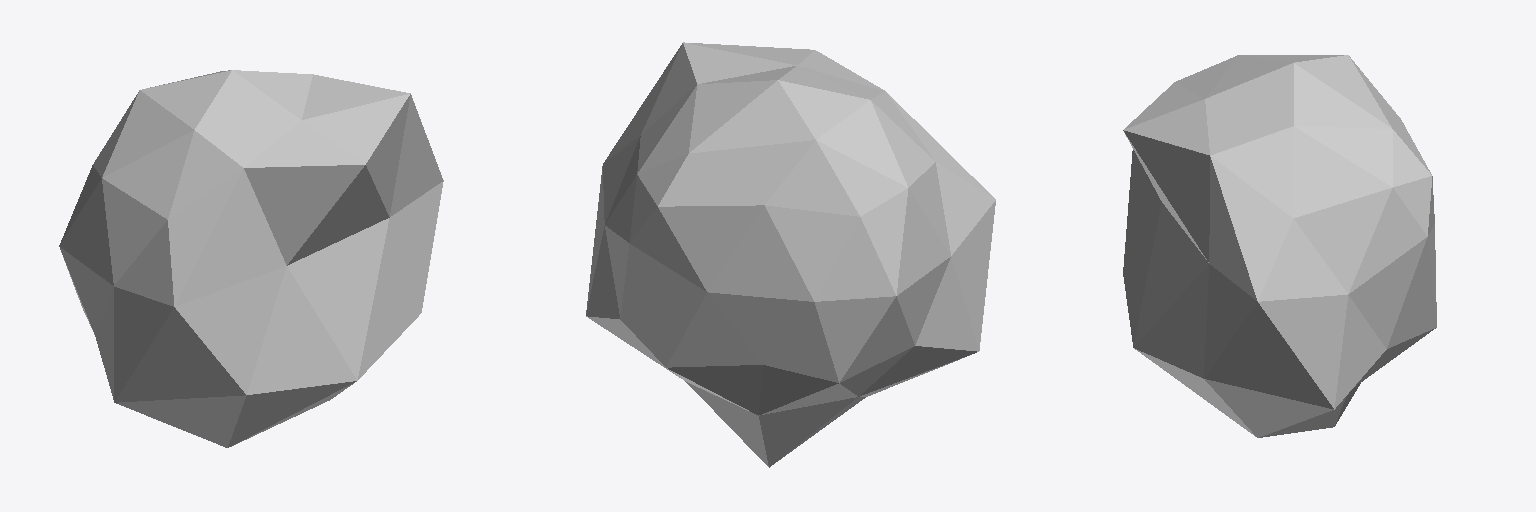
The model's file is Asteroid3.obj.
3 views of the same model, side by side, from view 1: azimuth 30°, elevation 25°; view 2: azimuth 150°, elevation 25°; view 3: azimuth 270°, elevation 25° (orthographic).
Visible parts, largest first — view 1: Icosphere; view 2: Icosphere; view 3: Icosphere.
Part boxes in pixels (x1,y1,x2,y2): Icosphere: (59, 70, 443, 447); Icosphere: (586, 42, 995, 467); Icosphere: (1123, 55, 1436, 437).
Size of the model in its own units: 3.96 by 3.96 by 3.05.